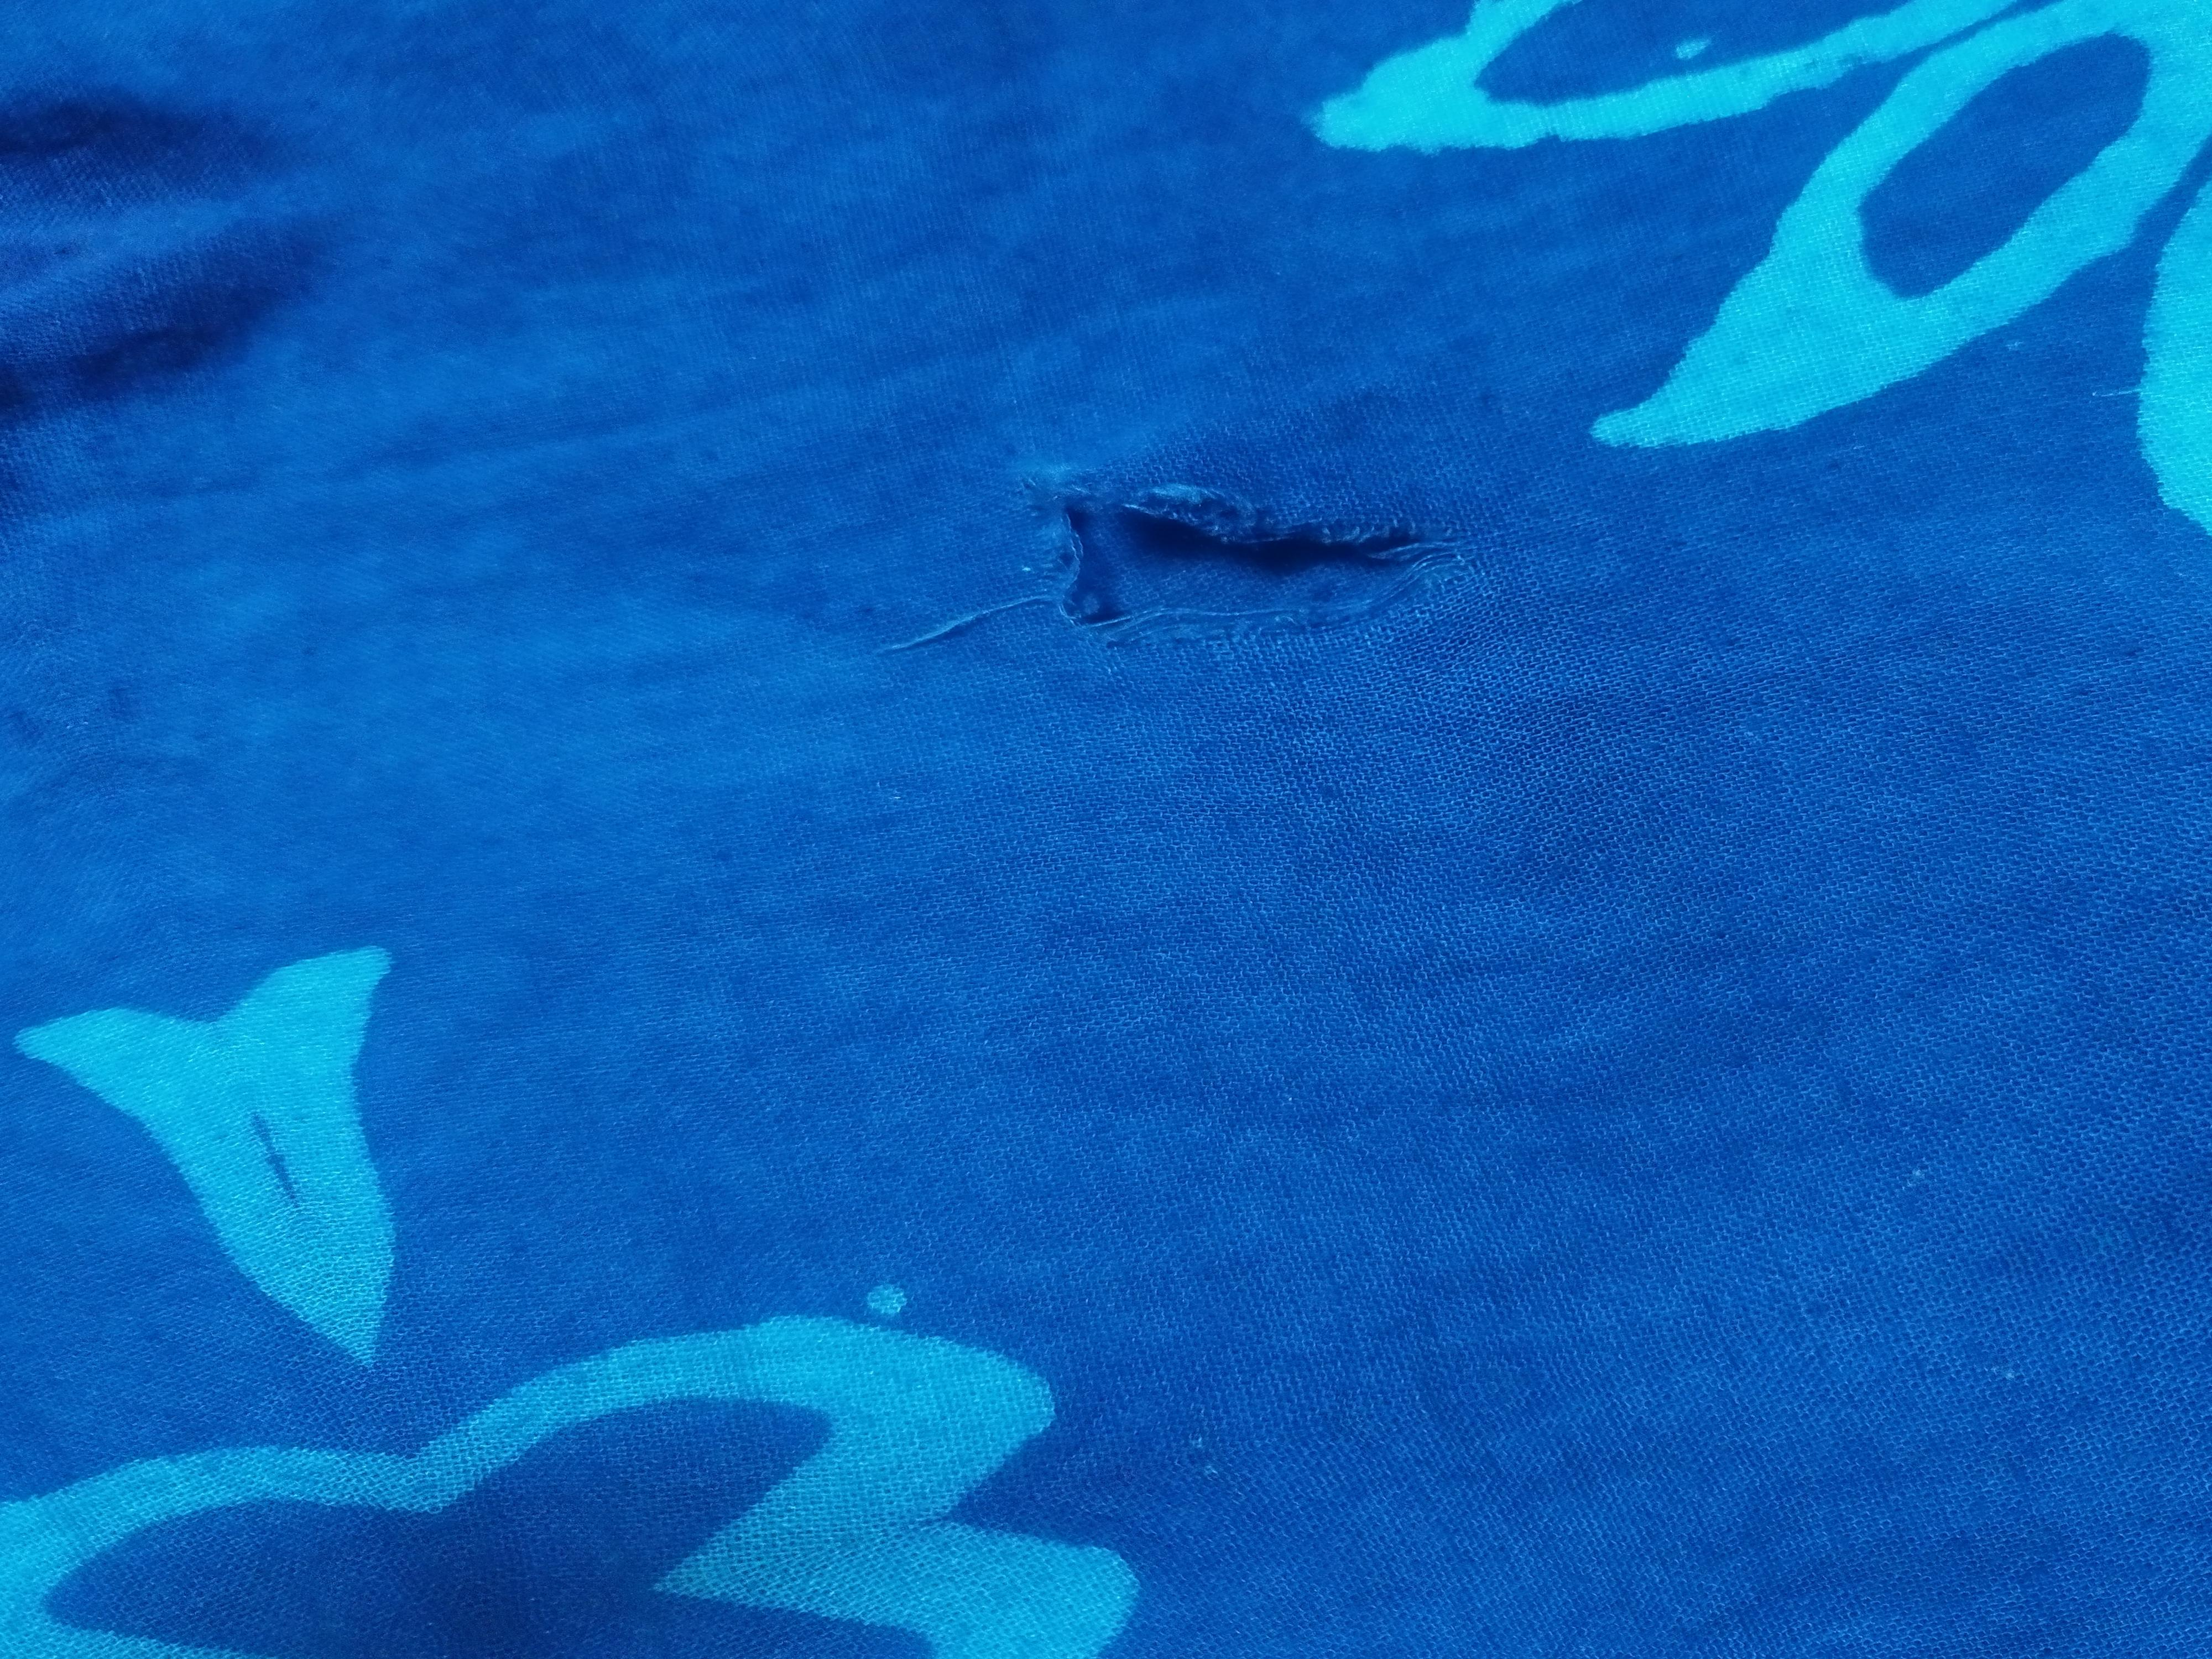hole: (1017, 408, 1460, 692)
